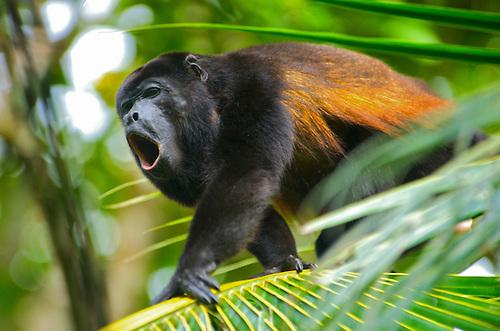monkey: (115, 49, 458, 307)
